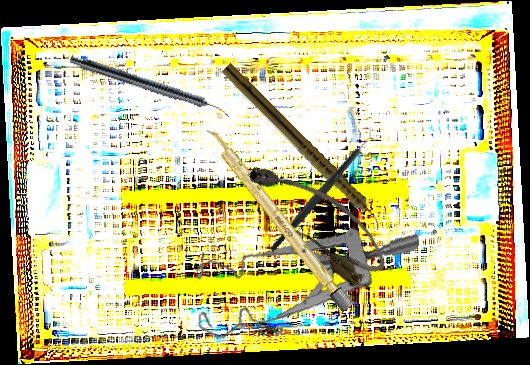Cannula: (238, 141, 398, 295)
Chopper: (240, 123, 402, 254)
Handpiece: (217, 62, 389, 233), (67, 53, 233, 120)
Scalpel Handle: (202, 124, 355, 313)
Speculum: (188, 206, 421, 362)
